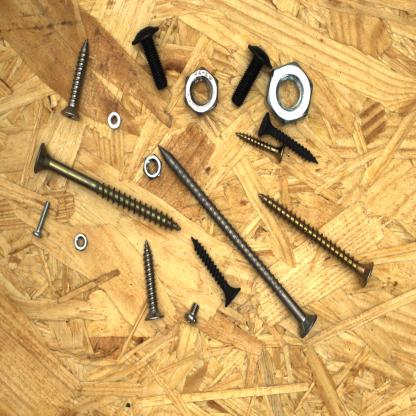screw: (156, 141, 320, 342), (32, 139, 184, 233), (256, 190, 377, 292), (188, 233, 243, 310), (256, 109, 320, 166), (229, 41, 275, 112), (60, 35, 92, 124), (130, 22, 170, 92), (140, 236, 166, 325), (234, 130, 288, 166), (32, 199, 52, 242), (183, 302, 201, 325)
